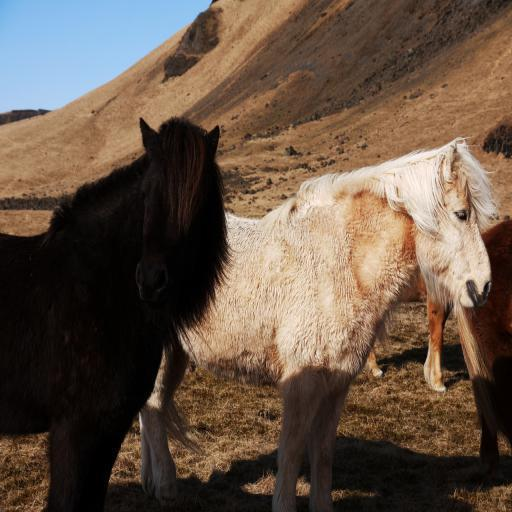horse: (138, 137, 501, 512), (0, 114, 242, 512), (456, 220, 512, 487), (364, 260, 458, 390)
